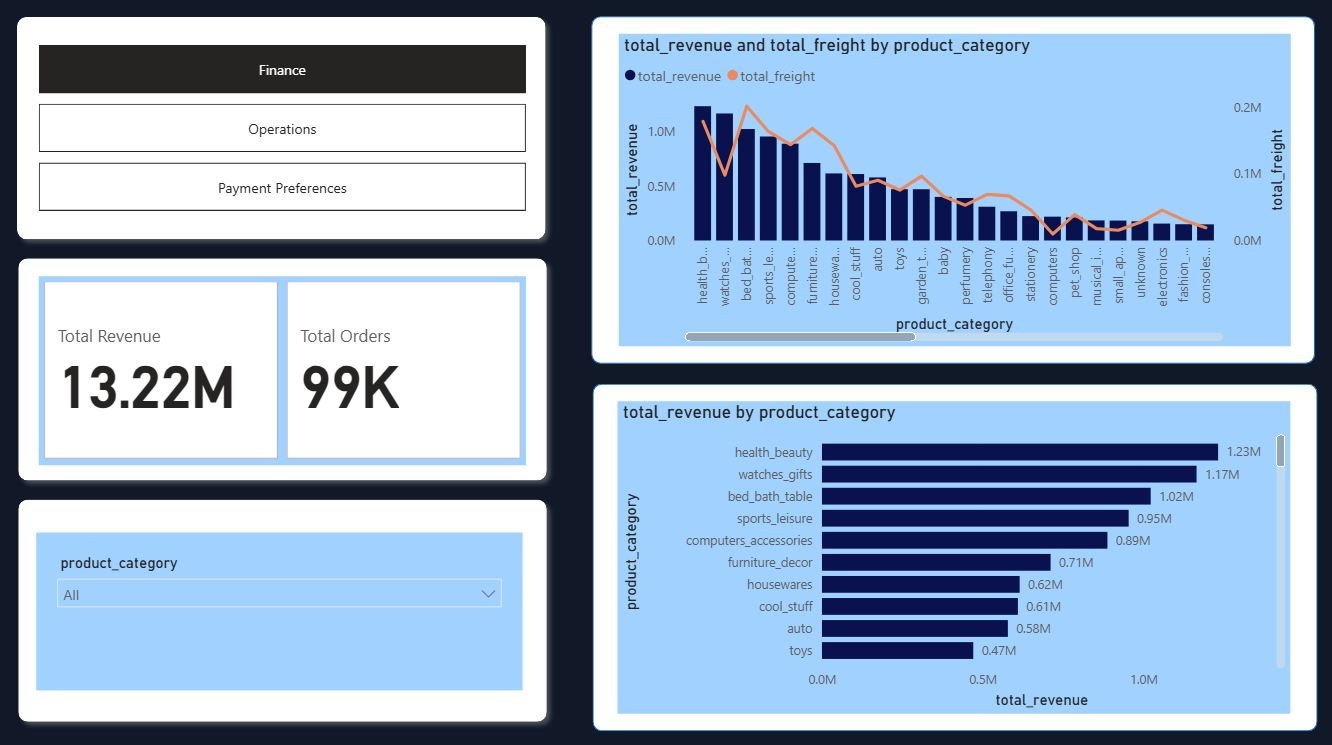

Layout of this report page (visuals, bound fields, positions):
{"tool":"powerbi","page":{"name":"Finance","canvas":[1280,720],"ordinal":0},"visuals":[{"type":"shape","box":[11.9,11.9,521.4,229.8],"z":0},{"type":"shape","box":[569.1,370.2,690.5,331],"z":0,"group":"g3"},{"type":"shape","box":[13.1,471.4,521.4,229.8],"z":0,"group":"g2"},{"type":"shape","box":[13.1,241.7,521.4,229.8],"z":500,"group":"g1"},{"type":"shape","box":[567.7,20.2,689.3,331],"z":1000,"group":"g4"},{"type":"group","id":"g1","title":"Group 1","box":[13.1,241.7,521.4,229.8],"z":1000},{"type":"cardVisual","fields":{"Data":["Sum(revenue_by_category.total_revenue)","Sum(customer_orders.total_orders)"]},"box":[41.7,267.9,464.3,179.8],"z":1000,"group":"g1"},{"type":"clusteredBarChart","fields":{"Y":["Sum(revenue_by_category.total_revenue)"],"Category":["revenue_by_category.product_category_name"]},"box":[592.6,386.9,640.9,297.6],"z":2000,"group":"g3"},{"type":"group","id":"g2","title":"Group 2","box":[13.1,471.4,521.4,229.8],"z":2000},{"type":"lineStackedColumnComboChart","fields":{"Category":["revenue_by_category.product_category_name"],"Y":["Sum(revenue_by_category.total_revenue)"],"Y2":["Sum(revenue_by_category.total_freight)"]},"box":[593.8,36.9,639.8,297.6],"z":3000,"group":"g4"},{"type":"group","id":"g3","title":"Group 3","box":[569.1,370.2,690.5,331],"z":3000},{"type":"group","id":"g4","title":"Group 4","box":[567.7,20.2,689.3,331],"z":4000},{"type":"slicer","fields":{"Values":["revenue_by_category.product_category_name"]},"box":[39.2,511.4,463.1,150],"z":4000,"group":"g2"},{"type":"pageNavigator","box":[41.7,47.6,464.3,159.5],"z":5000}]}

Visuals, with their boxes in screenshot pixels (x1, y1, x2, y2), scaled from the page's 1280x720 canvas onto the 1332x745 screenshot:
shape: (12, 12, 555, 250)
shape: (592, 383, 1311, 726)
shape: (14, 488, 556, 726)
shape: (14, 250, 556, 488)
shape: (591, 21, 1308, 363)
"Group 1" group: (14, 250, 556, 488)
cardVisual - Sum(revenue_by_category.total_revenue) x Sum(customer_orders.total_orders): (43, 277, 527, 463)
clusteredBarChart - Sum(revenue_by_category.total_revenue) x revenue_by_category.product_category_name: (617, 400, 1284, 708)
"Group 2" group: (14, 488, 556, 726)
lineStackedColumnComboChart - revenue_by_category.product_category_name x Sum(revenue_by_category.total_revenue): (618, 38, 1284, 346)
"Group 3" group: (592, 383, 1311, 726)
"Group 4" group: (591, 21, 1308, 363)
slicer - revenue_by_category.product_category_name: (41, 529, 523, 684)
pageNavigator: (43, 49, 527, 214)
